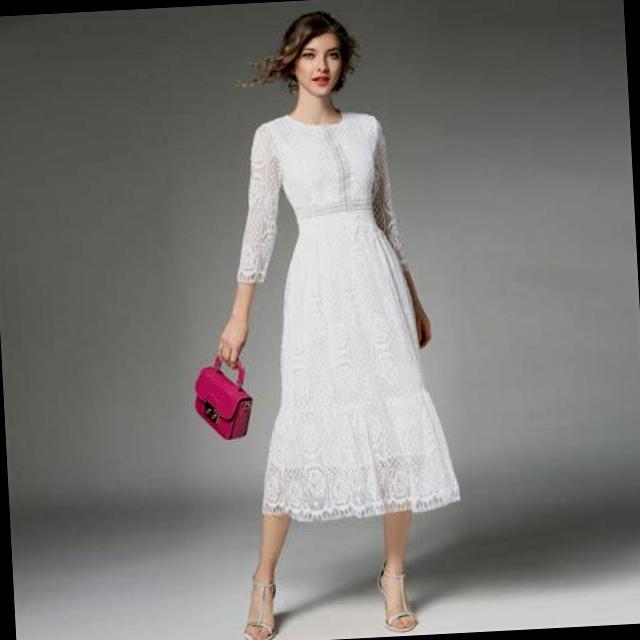dress: (228, 104, 464, 526)
